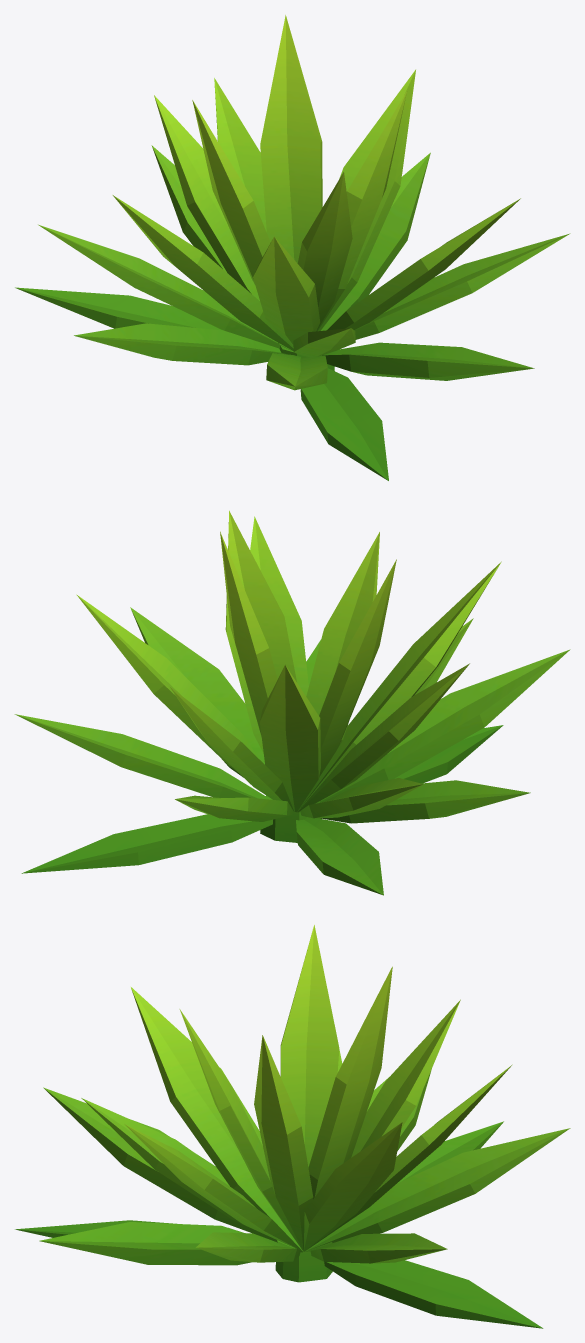
The picture shows the model from 3 angles, top to bottom: view 1: azimuth 30°, elevation 25°; view 2: azimuth 150°, elevation 25°; view 3: azimuth 270°, elevation 25°; orthographic projection. The views are drawn at different scales.
Parts seen in each view (by area): view 1: AgaveHigh; view 2: AgaveHigh; view 3: AgaveHigh.
Boxes of the visible parts, x1,y1,x2,y2 form: AgaveHigh: (15, 15, 570, 480); AgaveHigh: (14, 510, 570, 895); AgaveHigh: (15, 925, 570, 1328).
Bounding box in the file's own units: 55.09 × 37.61 × 60.
Materials: 1 (1 with a texture image).
